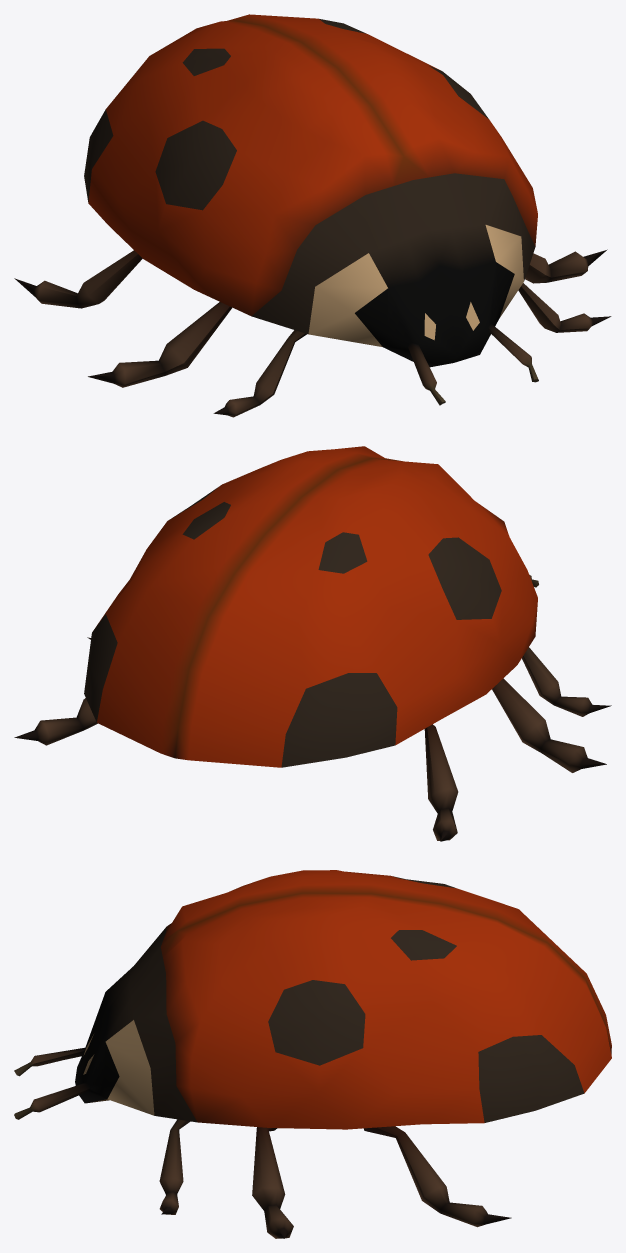
Rendered from kit-ladybird.glb.
3 views of the same model, one above another, from view 1: azimuth 30°, elevation 25°; view 2: azimuth 150°, elevation 25°; view 3: azimuth 270°, elevation 25° (orthographic). The views are drawn at different scales.
Visible parts, largest first — view 1: alt1; view 2: alt1; view 3: alt1.
Part boxes in pixels (bbox=[...]): alt1: bbox=[14, 14, 611, 417]; alt1: bbox=[14, 446, 611, 841]; alt1: bbox=[14, 870, 611, 1238].
Bounding box in the file's own units: 0.8329 × 0.3907 × 0.8749.
